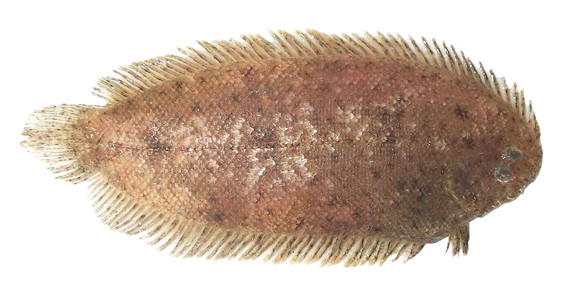fish: (20, 30, 543, 268)
